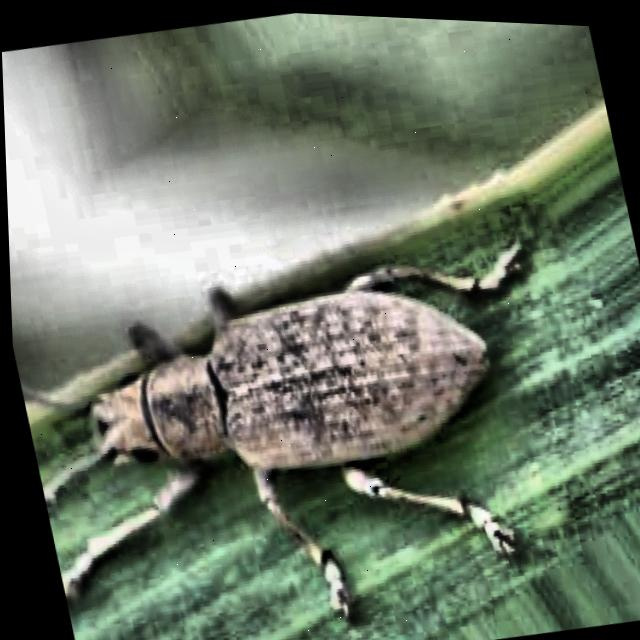Stink bug: (9, 176, 599, 640)
